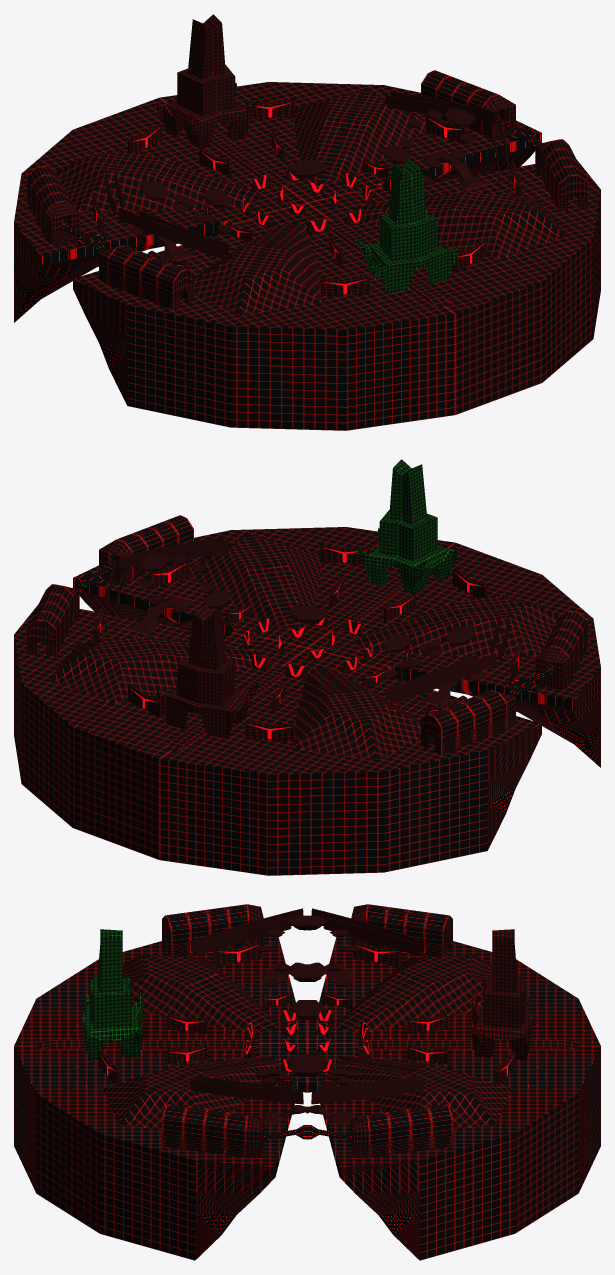
File: World11.glb
3 renders of one model, top to bottom at view 1: azimuth 30°, elevation 25°; view 2: azimuth 150°, elevation 25°; view 3: azimuth 270°, elevation 25°, orthographic.
Parts seen in each view (by area): view 1: Cylinder, BossRamp, Cube.007, TowerB, TowerA, Cube, Wall.002, Cube.005, Cube.006, Wall.003, Wall.001, Cube.001 (+5 smaller); view 2: Cylinder, BossRamp, Cube.007, TowerA, TowerB, Cube, Wall.002, Cube.005, Cube.006, Wall.003, Wall.001, Cube.001 (+5 smaller); view 3: Cylinder, BossRamp, Cube.007, Cube, TowerA, TowerB, Cube.005, Wall.001, Wall.003, Cube.006, Wall.004, Platform.004 (+7 smaller).
Boxes of the visible parts, x1=… form: Cylinder: x1=14, y1=82, x2=600, y2=430; BossRamp: x1=56, y1=88, x2=566, y2=314; Cube.007: x1=27, y1=70, x2=587, y2=309; TowerB: x1=355, y1=159, x2=457, y2=293; TowerA: x1=157, y1=14, x2=259, y2=149; Cube: x1=105, y1=91, x2=509, y2=258; Wall.002: x1=128, y1=98, x2=486, y2=296; Cube.005: x1=211, y1=127, x2=450, y2=307; Cube.006: x1=126, y1=150, x2=488, y2=260; Wall.003: x1=93, y1=115, x2=521, y2=269; Wall.001: x1=199, y1=131, x2=343, y2=266; Cube.001: x1=251, y1=170, x2=363, y2=233; Cylinder: x1=14, y1=527, x2=600, y2=875; BossRamp: x1=48, y1=533, x2=558, y2=759; Cube.007: x1=27, y1=515, x2=587, y2=754; TowerA: x1=157, y1=604, x2=259, y2=738; TowerB: x1=355, y1=459, x2=457, y2=594; Cube: x1=105, y1=536, x2=509, y2=703; Wall.002: x1=128, y1=543, x2=486, y2=741; Cube.005: x1=164, y1=572, x2=403, y2=752; Cube.006: x1=126, y1=595, x2=488, y2=705; Wall.003: x1=93, y1=560, x2=521, y2=714; Wall.001: x1=271, y1=576, x2=415, y2=711; Cube.001: x1=251, y1=615, x2=363, y2=678; Cylinder: x1=14, y1=935, x2=600, y2=1260; BossRamp: x1=103, y1=955, x2=511, y2=1128; Cube.007: x1=162, y1=904, x2=452, y2=1158; Cube: x1=190, y1=908, x2=424, y2=1104; TowerA: x1=472, y1=929, x2=533, y2=1060; TowerB: x1=81, y1=929, x2=142, y2=1060; Cube.005: x1=36, y1=1039, x2=578, y2=1049; Wall.001: x1=166, y1=1014, x2=448, y2=1064; Wall.003: x1=214, y1=941, x2=400, y2=1118; Cube.006: x1=261, y1=962, x2=353, y2=1122; Wall.004: x1=261, y1=992, x2=353, y2=1089; Platform.004: x1=287, y1=915, x2=327, y2=1076.
Size of the model in its own units: 269 by 109 by 275.
Materials: 3 (2 with a texture image).
